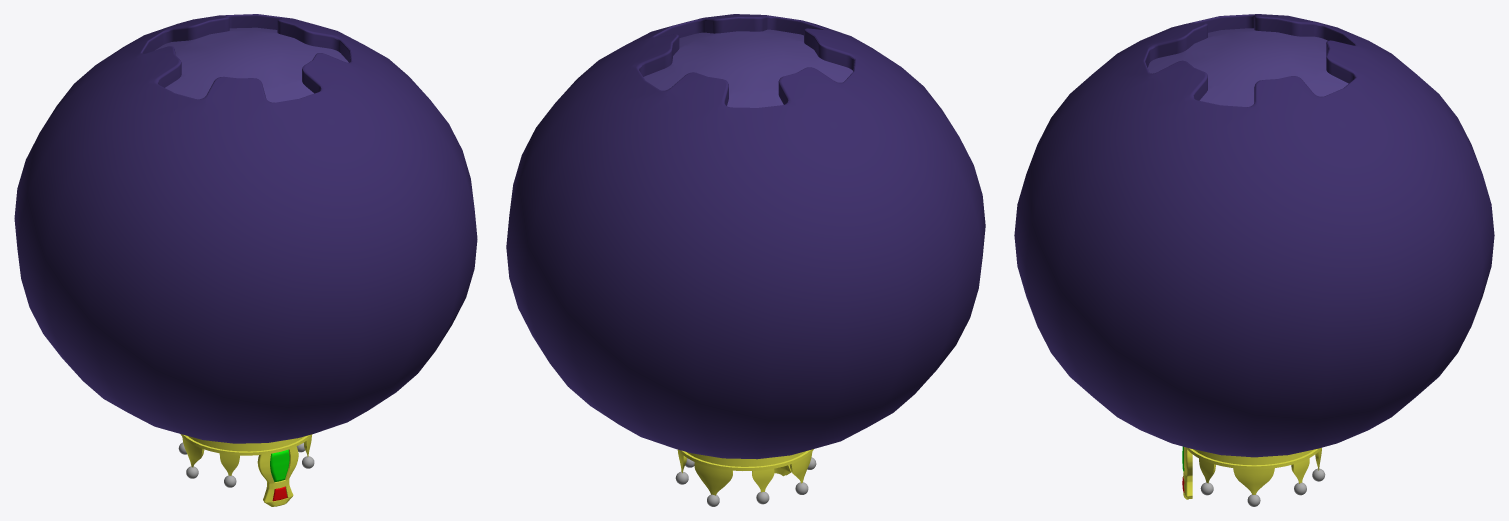
The model's file is Blueberry_Tiny_Crowned.fbx.
3 views of the same model, side by side, from view 1: azimuth 30°, elevation 25°; view 2: azimuth 150°, elevation 25°; view 3: azimuth 270°, elevation 25° (orthographic). The views are drawn at different scales.
Visible parts, largest first — view 1: Blueberry_Tiny_Crowned; view 2: Blueberry_Tiny_Crowned; view 3: Blueberry_Tiny_Crowned.
Boxes of the visible parts, x1=… form: Blueberry_Tiny_Crowned: x1=14, y1=14, x2=477, y2=506; Blueberry_Tiny_Crowned: x1=506, y1=14, x2=985, y2=506; Blueberry_Tiny_Crowned: x1=1014, y1=14, x2=1494, y2=506.
Size of the model in its own units: 1.33 by 1.36 by 1.33.
